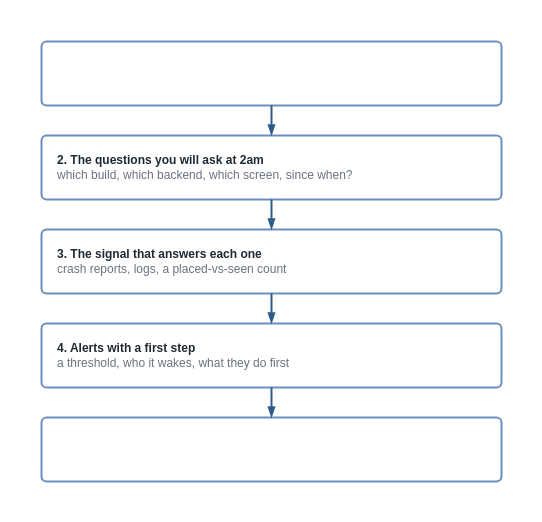
Some shapes in this 542 by 522 pixel diagram are drawn without their labels. The box of each missing label's shape, as (x1, y1, x2, y2) in pixels:
1. A bad night, in one sentence orders are placed but restaurants never see them: (40, 40, 502, 106)
5. What you cannot answer today written down before the incident, not during it: (40, 416, 502, 482)
